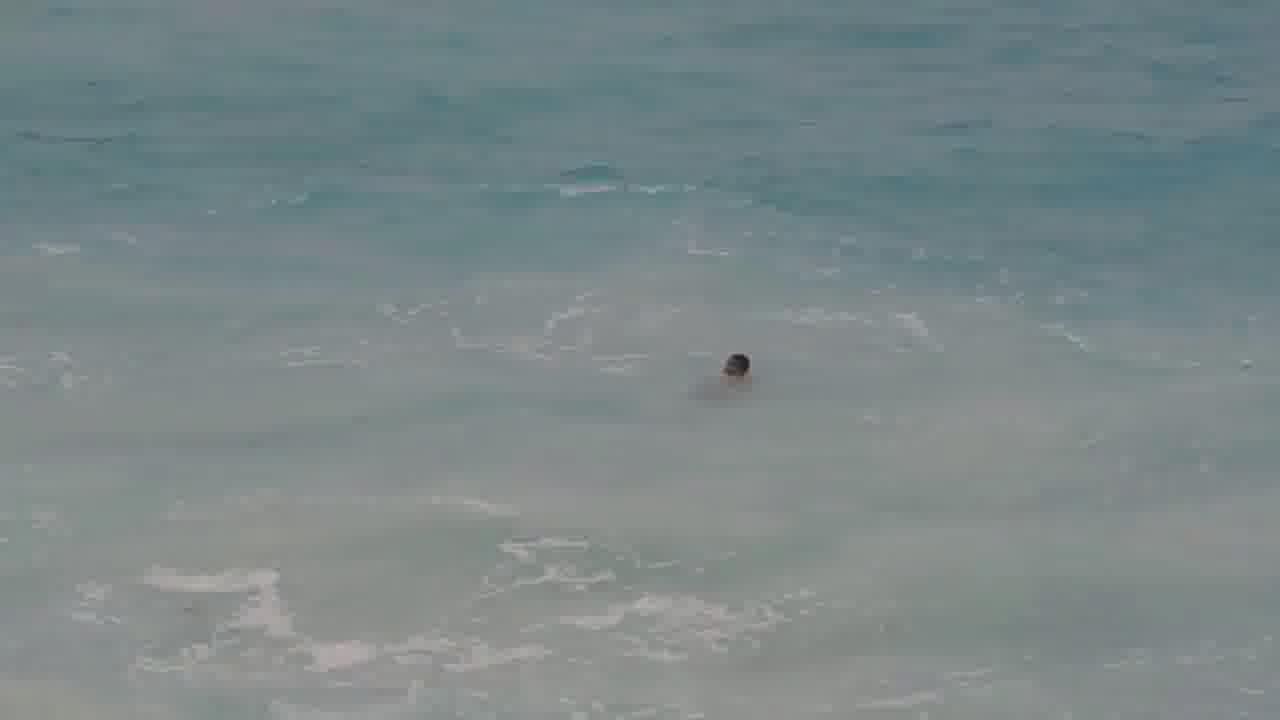human: (711, 338, 758, 387)
